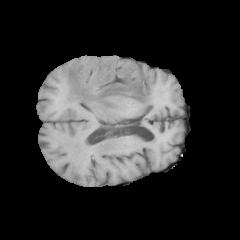glioma: (64, 64, 155, 123)
